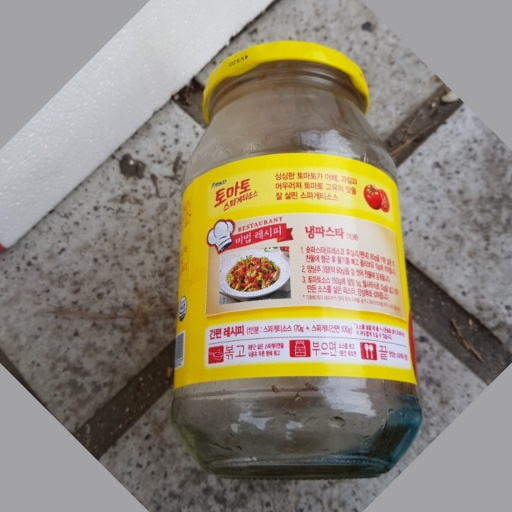Glass_5: (178, 44, 420, 471)
